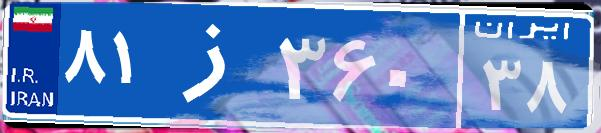0: (385, 28, 445, 110)
1: (110, 28, 158, 105)
3: (273, 28, 330, 110), (475, 38, 525, 113)
6: (330, 28, 385, 110)
8: (57, 26, 110, 107), (525, 38, 570, 115)
ز: (158, 15, 273, 115)
